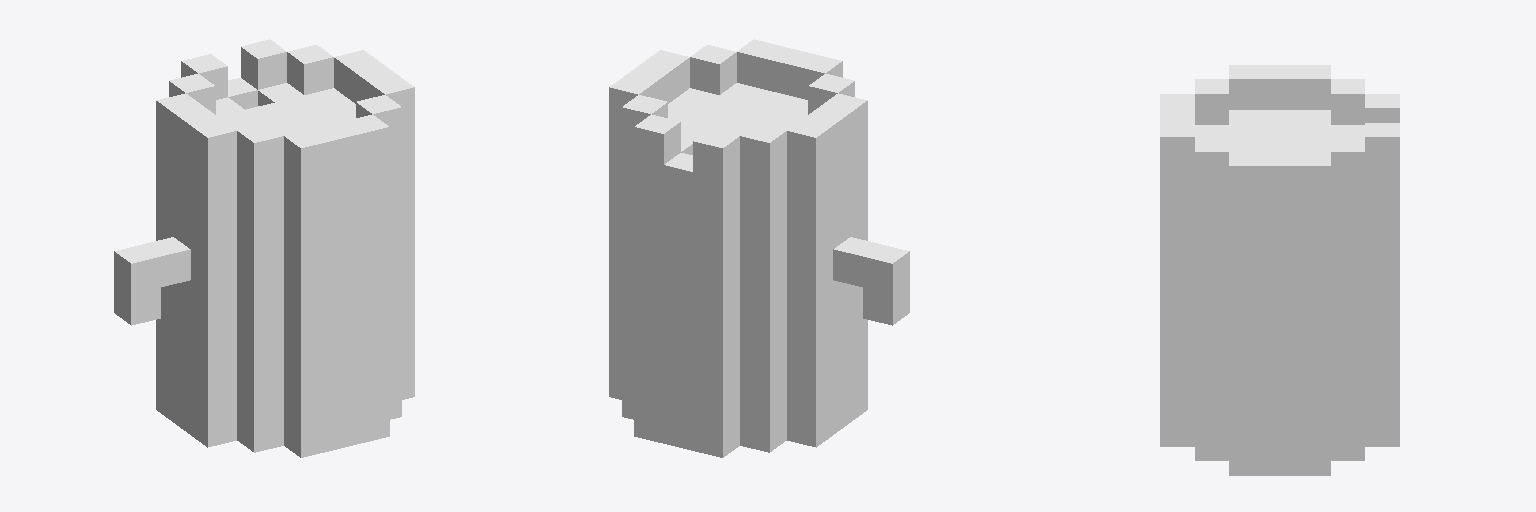
Rendered from kittle.obj.
The picture shows the model from 3 angles: view 1: azimuth 30°, elevation 25°; view 2: azimuth 150°, elevation 25°; view 3: azimuth 270°, elevation 25°; orthographic projection.
Parts seen in each view (by area): view 1: object 1; view 2: object 1; view 3: object 1.
Boxes of the visible parts, <box> form: object 1: <box>114,39,414,457</box>; object 1: <box>609,39,909,457</box>; object 1: <box>1160,65,1399,475</box>.
Bounding box in the file's own units: 0.9 × 1 × 0.7.